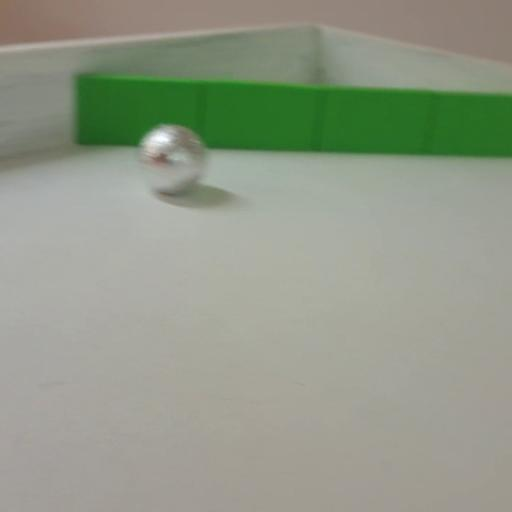alive: (136, 122, 208, 194)
